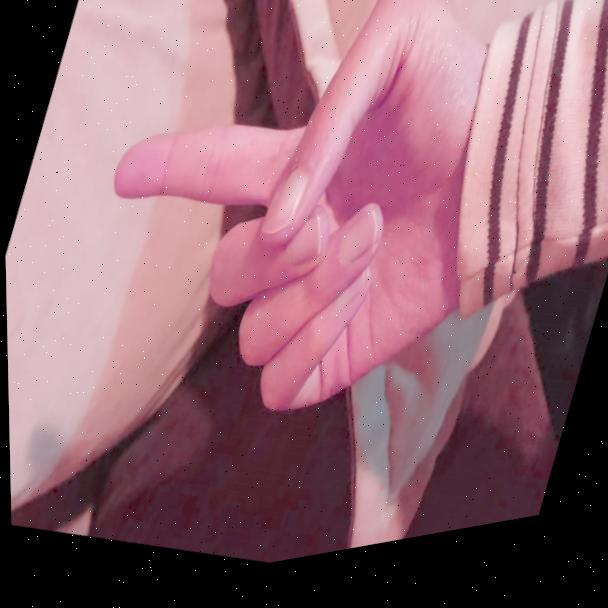one: (38, 0, 575, 512)
